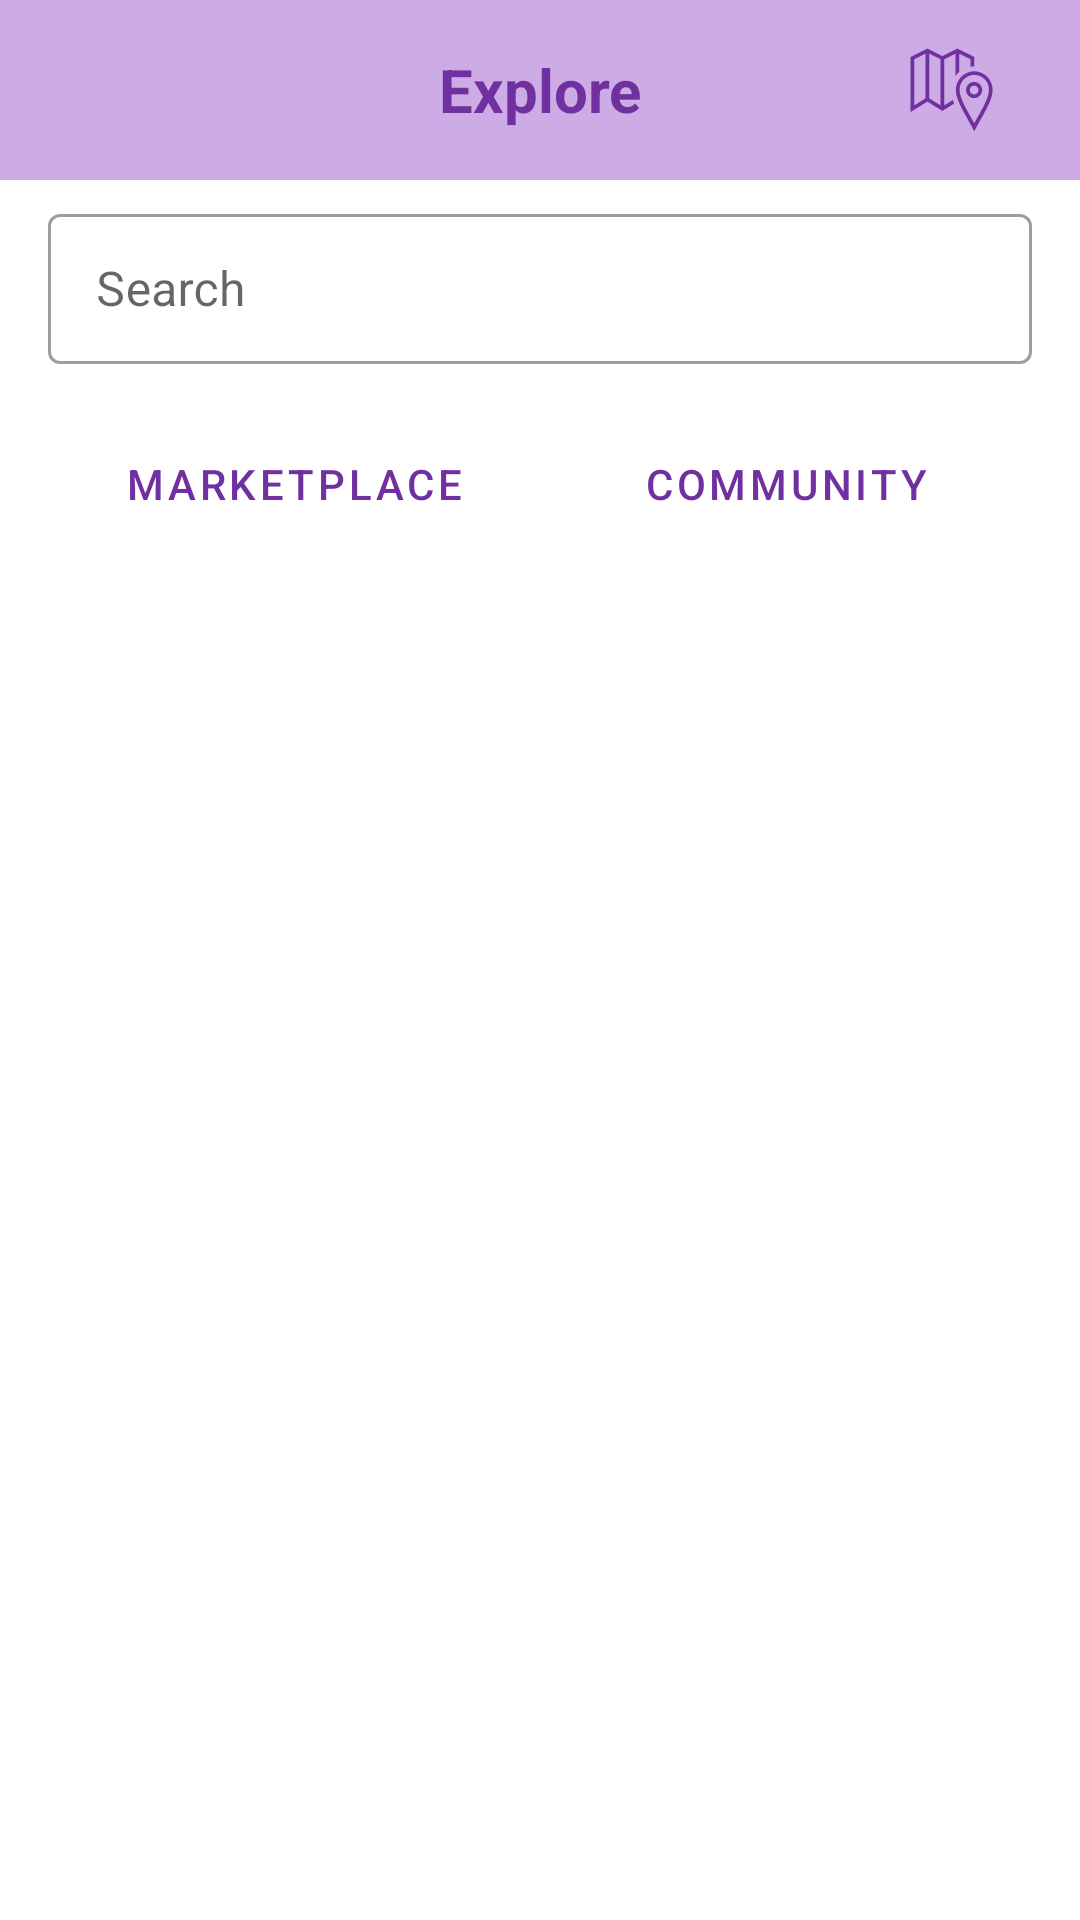

Where to tap for icons on this 1080px×1920px app screen, as point (x, y):
map: point (951, 89)
